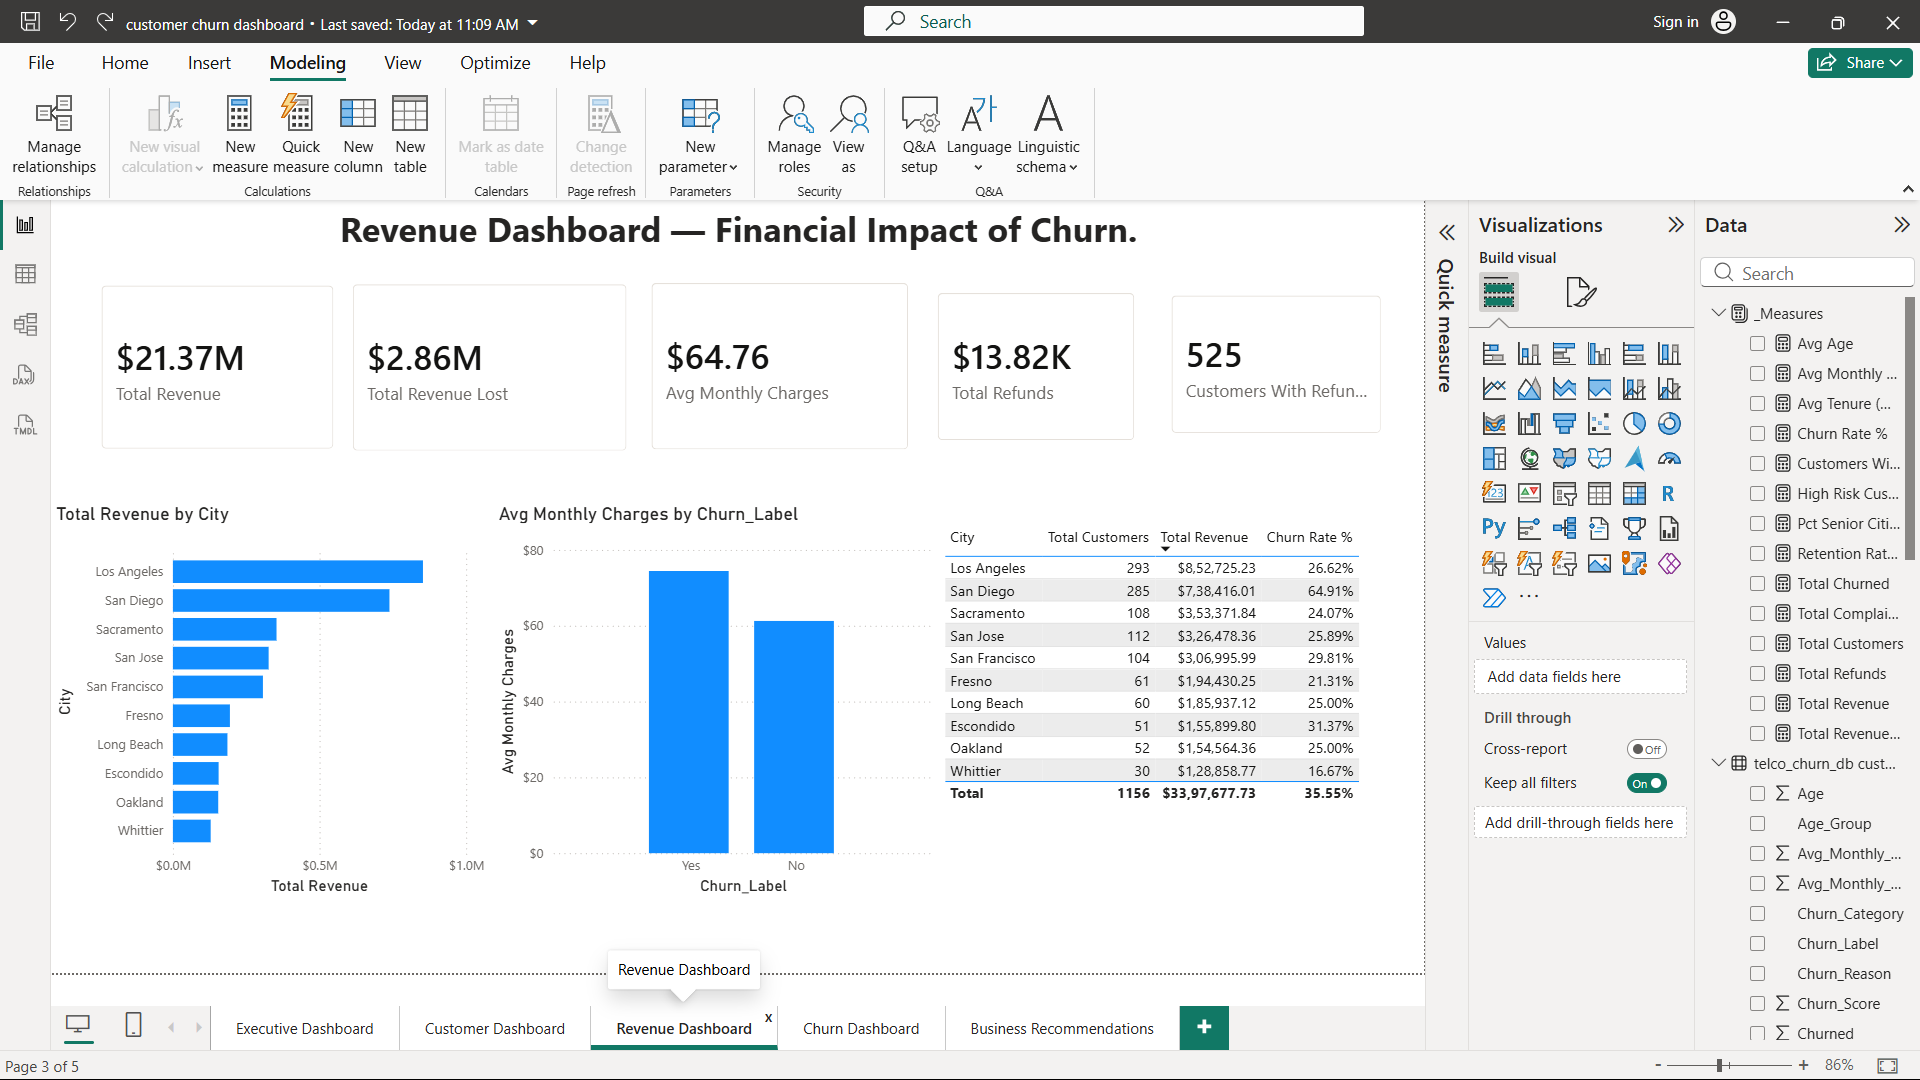

The dashboard page shown, as its layout file describes it:
{"tool":"powerbi","page":{"name":"Revenue Dashboard","canvas":[1280,720],"ordinal":2},"visuals":[{"type":"textbox","box":[264,0,762.8,73.3],"z":0},{"type":"cardVisual","fields":{"Data":["_Measures.Monthly Recurring Revenue Lost"]},"box":[264,61.6,289.5,189.5],"z":1000},{"type":"cardVisual","fields":{"Data":["_Measures.Avg Monthly Charges"]},"box":[542.7,60,273.3,189.5],"z":2000},{"type":"cardVisual","fields":{"Data":["_Measures.Total Refunds"]},"box":[809.6,69.9,217.8,171.2],"z":3000},{"type":"clusteredBarChart","fields":{"Category":["telco_churn_db customer_churn.City"],"Y":["_Measures.Total Revenue"]},"box":[0,282.2,409.1,370.6],"z":4000},{"type":"clusteredColumnChart","fields":{"Y":["_Measures.Avg Monthly Charges"],"Category":["telco_churn_db customer_churn.Churn_Label"]},"box":[411.9,282.2,414.8,370.6],"z":5000},{"type":"cardVisual","fields":{"Data":["_Measures.Customers With Refunds"]},"box":[1027.7,72.7,229.5,162.5],"z":6000},{"type":"tableEx","fields":{"Values":["telco_churn_db customer_churn.City","_Measures.Total Customers","_Measures.Total Revenue","_Measures.Churn Rate %"]},"box":[826.7,297.9,399.1,303.6],"z":7000},{"type":"cardVisual","fields":{"Data":["_Measures.Total Revenue"]},"box":[29.9,62.7,250.9,186.7],"z":8000}]}

Visuals, with their boxes on the page's 1280x720 design canvas (x1, y1, x2, y2). These are canvas units, not pixel positions in the 1920x1080 screenshot, which may show the page scaled, cropped or inside an application window:
textbox: bbox(264, 0, 1027, 73)
cardVisual - _Measures.Monthly Recurring Revenue Lost: bbox(264, 62, 554, 251)
cardVisual - _Measures.Avg Monthly Charges: bbox(543, 60, 816, 250)
cardVisual - _Measures.Total Refunds: bbox(810, 70, 1027, 241)
clusteredBarChart - telco_churn_db customer_churn.City x _Measures.Total Revenue: bbox(0, 282, 409, 653)
clusteredColumnChart - _Measures.Avg Monthly Charges x telco_churn_db customer_churn.Churn_Label: bbox(412, 282, 827, 653)
cardVisual - _Measures.Customers With Refunds: bbox(1028, 73, 1257, 235)
tableEx - telco_churn_db customer_churn.City x _Measures.Total Customers: bbox(827, 298, 1226, 602)
cardVisual - _Measures.Total Revenue: bbox(30, 63, 281, 249)
